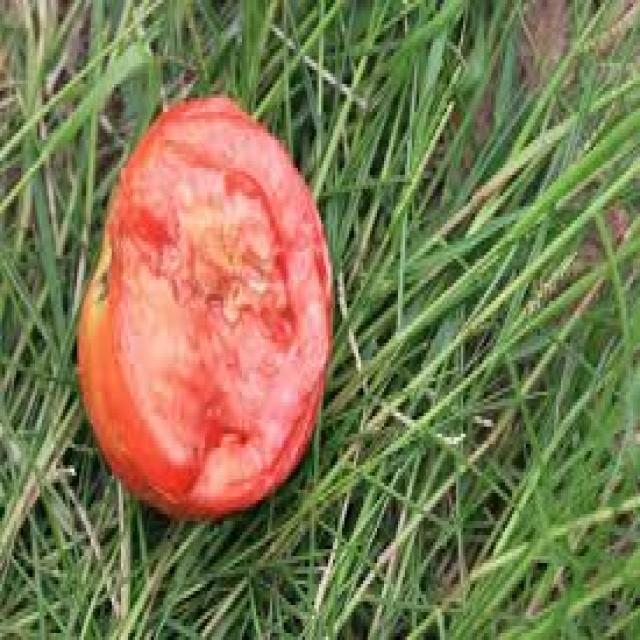organic waste: (0, 0, 638, 637), (72, 88, 335, 514)
